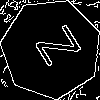Z: (26, 24, 82, 74)
